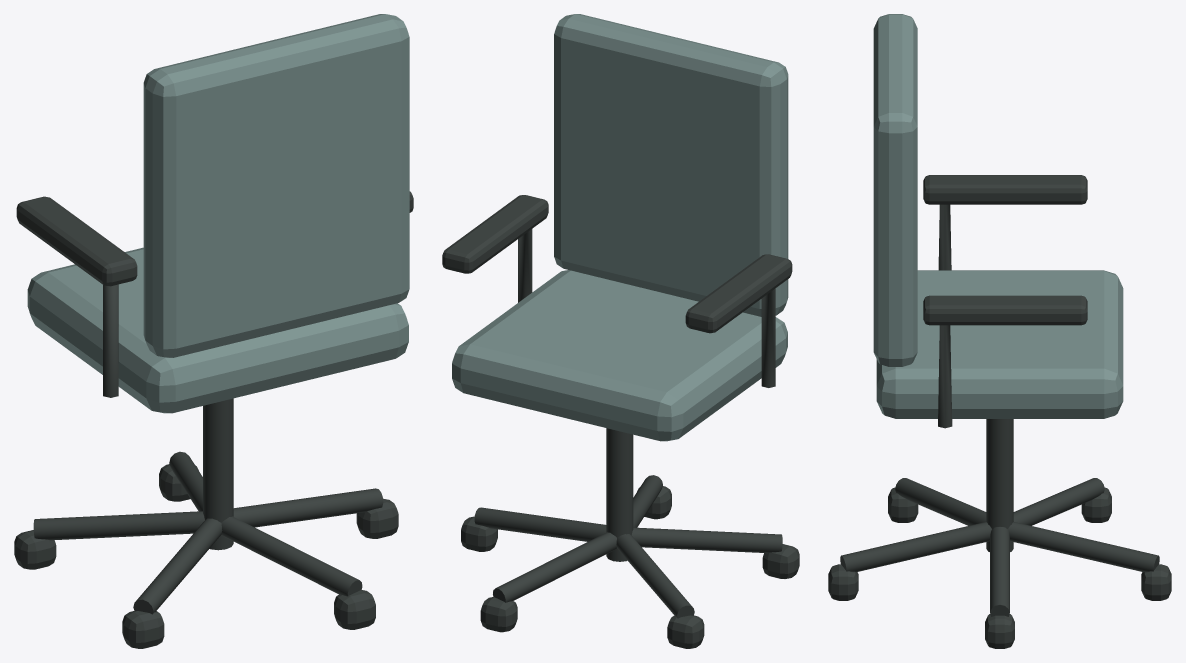
Rendered from office_chair.glb.
3 views of the same model, side by side, from view 1: azimuth 30°, elevation 25°; view 2: azimuth 150°, elevation 25°; view 3: azimuth 270°, elevation 25° (orthographic). The views are drawn at different scales.
Parts seen in each view (by area): view 1: KitFabric, KitDark; view 2: KitFabric, KitDark; view 3: KitFabric, KitDark.
Part boxes in pixels (x1=…): KitFabric: x1=27, y1=14, x2=409, y2=413; KitDark: x1=14, y1=191, x2=413, y2=648; KitFabric: x1=452, y1=14, x2=788, y2=441; KitDark: x1=442, y1=195, x2=799, y2=648; KitFabric: x1=873, y1=14, x2=1123, y2=418; KitDark: x1=828, y1=175, x2=1171, y2=648.
Bounding box in the file's own units: 0.625 × 1.03 × 0.6256.
